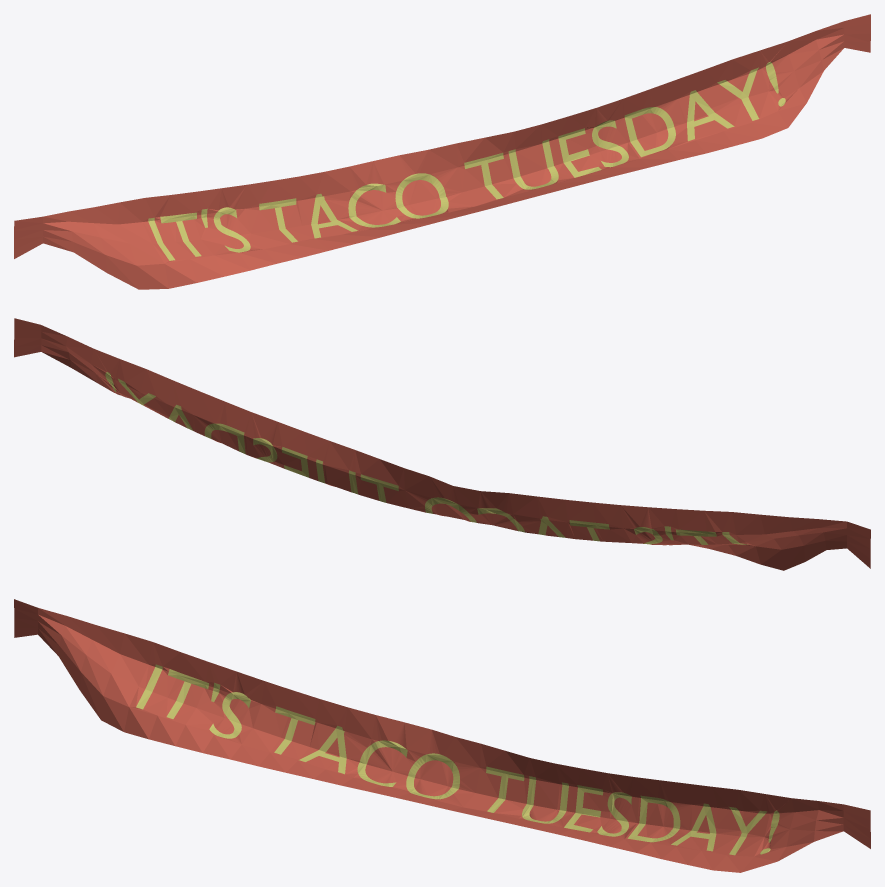
File: Banner.fbx
The picture shows the model from 3 angles, top to bottom: view 1: azimuth 30°, elevation 25°; view 2: azimuth 150°, elevation 25°; view 3: azimuth 330°, elevation 25°; orthographic projection.
Visible parts, largest first — view 1: Plane; view 2: Plane; view 3: Plane.
Boxes of the visible parts, left/top/right/bottom form: Plane: left=14, top=14, right=870, bottom=289; Plane: left=14, top=318, right=870, bottom=570; Plane: left=14, top=599, right=870, bottom=872.
Size of the model in its own units: 12.78 by 1.31 by 1.08.
